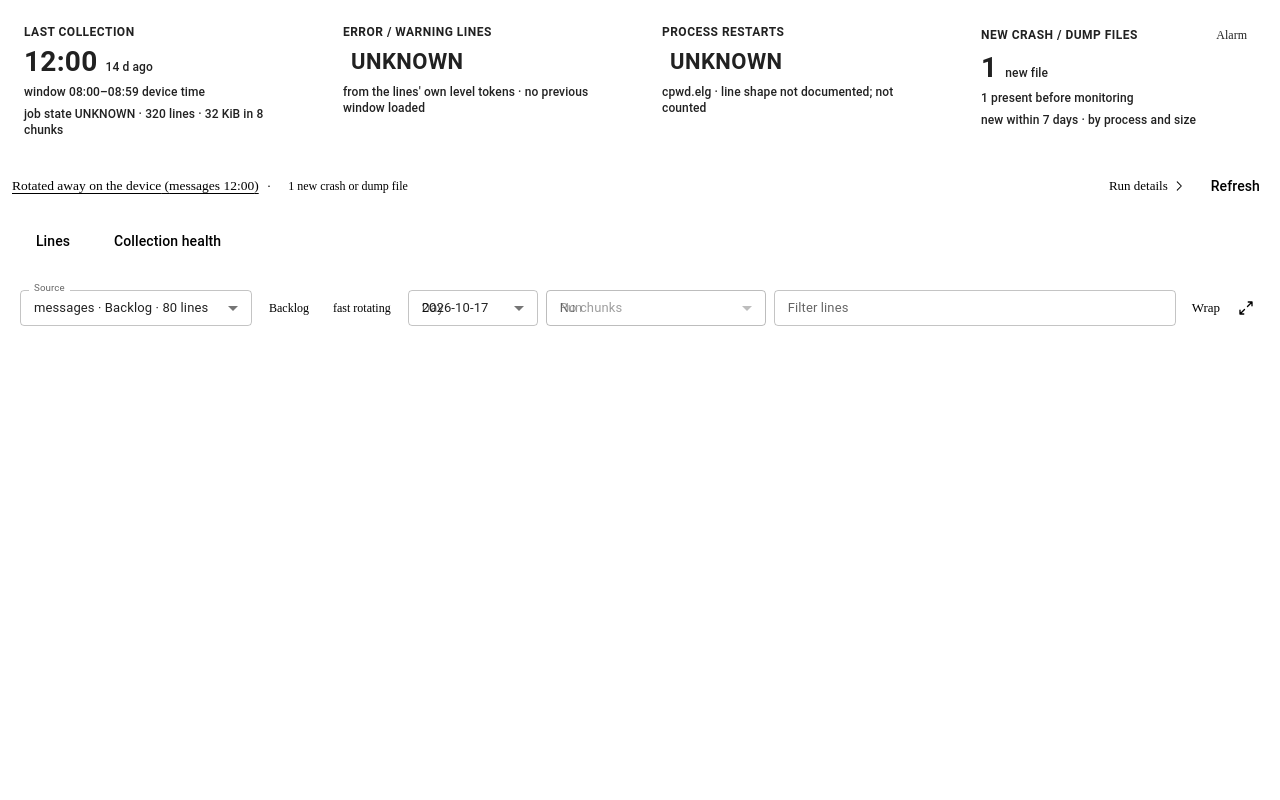
Test: summary strip, source pills and side panel › lists gaps in plain words with their byte counts, crash files and HCP reports as metadata, on Collection health
Click the tab "Collection health": (168, 242) x1=98 y1=218 x2=237 y2=266
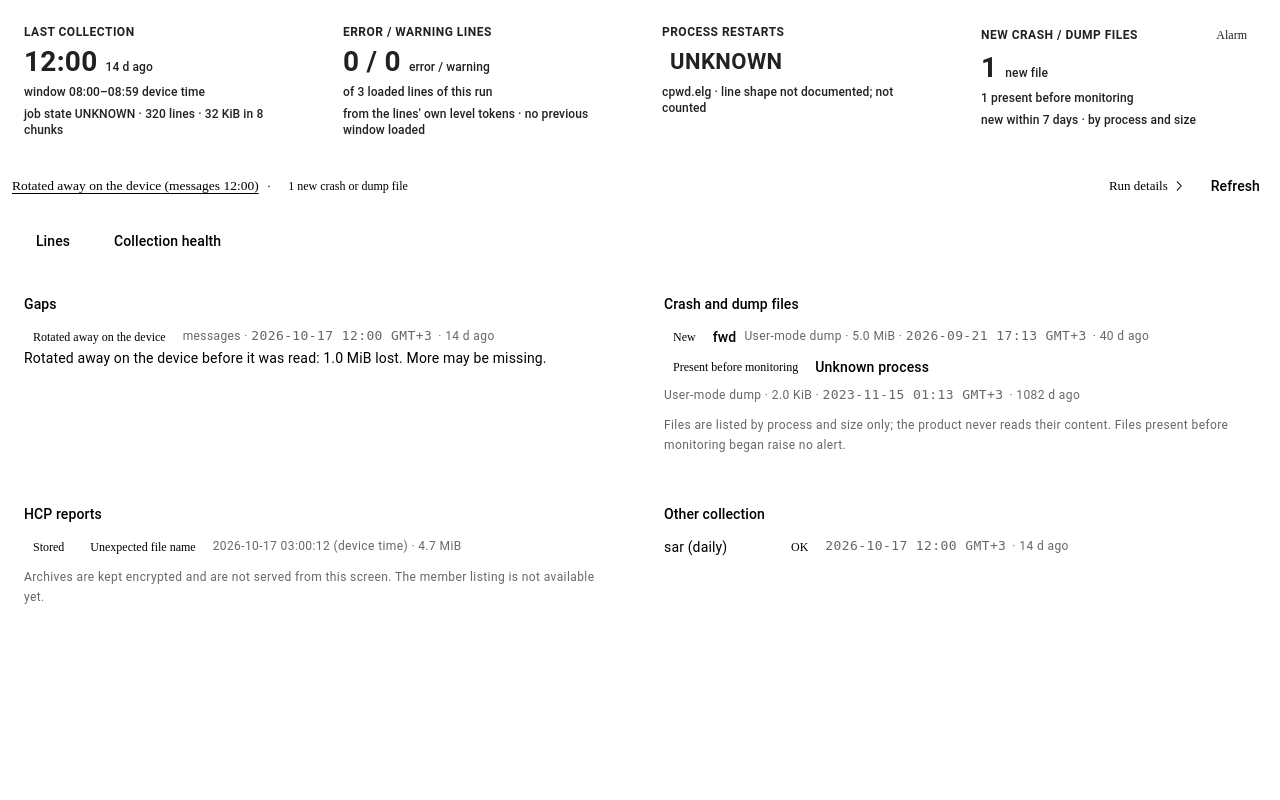
Check: the text "Rotated away on the device before it was read: 1.0 MiB lost. More may be missing." is shown, box x1=24 y1=350 x2=547 y2=366
Check: the text "fwd" is shown, box x1=713 y1=327 x2=736 y2=347
Check: the text "New" is shown, box x1=673 y1=330 x2=696 y2=344
